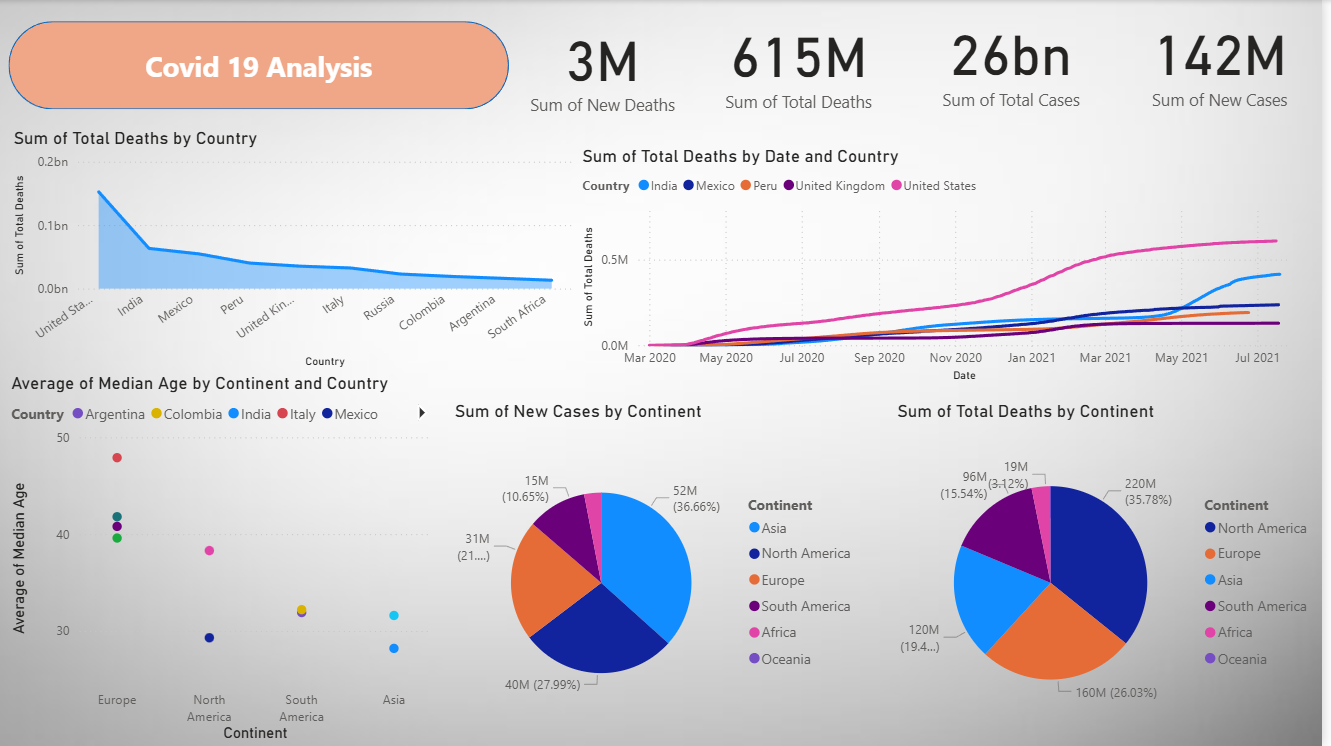

Layout of this report page (visuals, bound fields, positions):
{"tool":"powerbi","page":{"name":"Page 1","canvas":[1280,720],"ordinal":0},"visuals":[{"type":"areaChart","fields":{"Category":["Sheet1.Country"],"Y":["Sum(Sheet1.Total Deaths)"]},"box":[12.1,123.1,548.9,236.5],"z":0},{"type":"pieChart","fields":{"Category":["Sheet1.Continent"],"Y":["Sum(Sheet1.New Cases)"]},"box":[437.9,386.1,401.7,334.2],"z":1000},{"type":"pieChart","fields":{"Category":["Sheet1.Continent"],"Y":["Sum(Sheet1.Total Deaths)"]},"box":[865,386.1,415,334.2],"z":2000},{"type":"card","fields":{"Values":["Sum(Sheet1.Total Cases)"]},"box":[864.5,0,229.9,114.9],"z":3000},{"type":"card","fields":{"Values":["Sum(Sheet1.Total Deaths)"]},"box":[666.4,3.7,217.7,111.3],"z":4000},{"type":"card","fields":{"Values":["Sum(Sheet1.New Cases)"]},"box":[1082.2,0,198.1,114.9],"z":5000},{"type":"card","fields":{"Values":["Sum(Sheet1.New Deaths)"]},"box":[495.2,11,179.8,103.9],"z":6000},{"type":"lineChart","fields":{"Series":["Sheet1.Country"],"Y":["Sum(Sheet1.Total Deaths)"],"Category":["Sheet1.Date"]},"box":[561.2,140,705.3,233.3],"z":7000},{"type":"lineChart","fields":{"Y":["Avg(Sheet1.Median Age)"],"Category":["Sheet1.Continent"],"Series":["Sheet1.Country"]},"box":[9.6,359.5,421.3,360.9],"z":8000},{"type":"shape","box":[12.3,20.6,483,85.1],"z":9000}]}

Visuals, with their boxes in screenshot pixels (x1, y1, x2, y2), scaled from the page's 1280x720 canvas onto the 1331x746 screenshot:
areaChart - Sheet1.Country x Sum(Sheet1.Total Deaths): Rect(13, 128, 583, 373)
pieChart - Sheet1.Continent x Sum(Sheet1.New Cases): Rect(455, 400, 873, 745)
pieChart - Sheet1.Continent x Sum(Sheet1.Total Deaths): Rect(899, 400, 1330, 745)
card - Sum(Sheet1.Total Cases): Rect(899, 0, 1138, 119)
card - Sum(Sheet1.Total Deaths): Rect(693, 4, 919, 119)
card - Sum(Sheet1.New Cases): Rect(1125, 0, 1330, 119)
card - Sum(Sheet1.New Deaths): Rect(515, 11, 702, 119)
lineChart - Sheet1.Country x Sum(Sheet1.Total Deaths): Rect(584, 145, 1317, 387)
lineChart - Avg(Sheet1.Median Age) x Sheet1.Continent: Rect(10, 372, 448, 745)
shape: Rect(13, 21, 515, 110)
